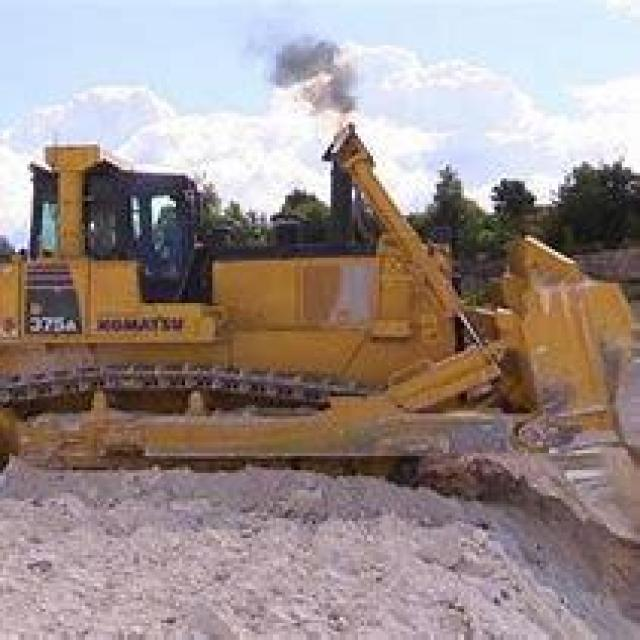buldozerpayloadergrader: (0, 122, 637, 566)
